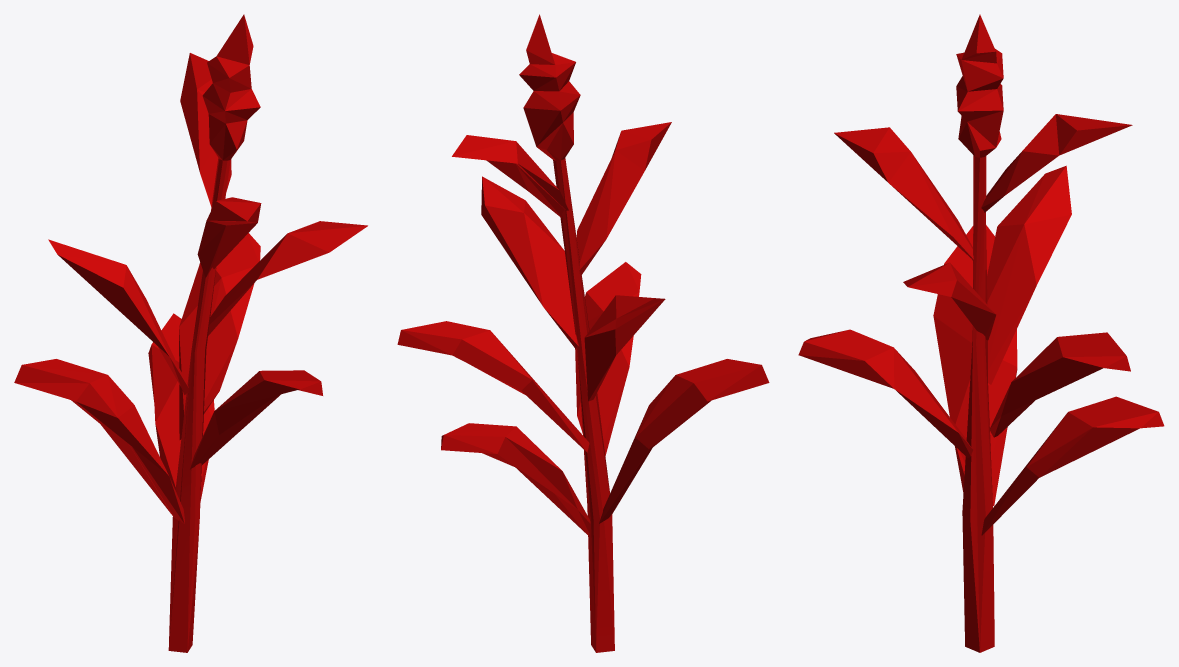
The model's file is SM_Plant_Flowers_01.gltf.
The picture shows the model from 3 angles, left to right: view 1: azimuth 30°, elevation 25°; view 2: azimuth 150°, elevation 25°; view 3: azimuth 270°, elevation 25°; orthographic projection. The views are drawn at different scales.
Visible parts, largest first — view 1: SM_Plant_Flowers_01; view 2: SM_Plant_Flowers_01; view 3: SM_Plant_Flowers_01.
Part boxes in pixels (<box>): SM_Plant_Flowers_01: <box>14,14,367,652</box>; SM_Plant_Flowers_01: <box>397,14,769,652</box>; SM_Plant_Flowers_01: <box>798,14,1164,652</box>.
Size of the model in its own units: 0.7534 by 1.39 by 0.6911.
